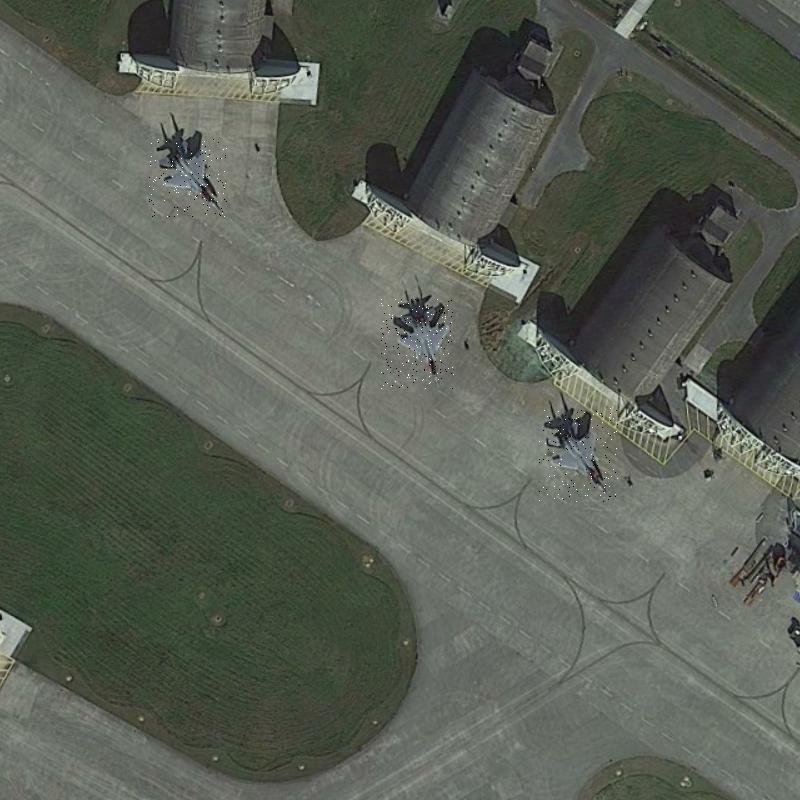A13: (539, 408, 618, 502), (381, 299, 454, 389), (148, 138, 227, 217)
